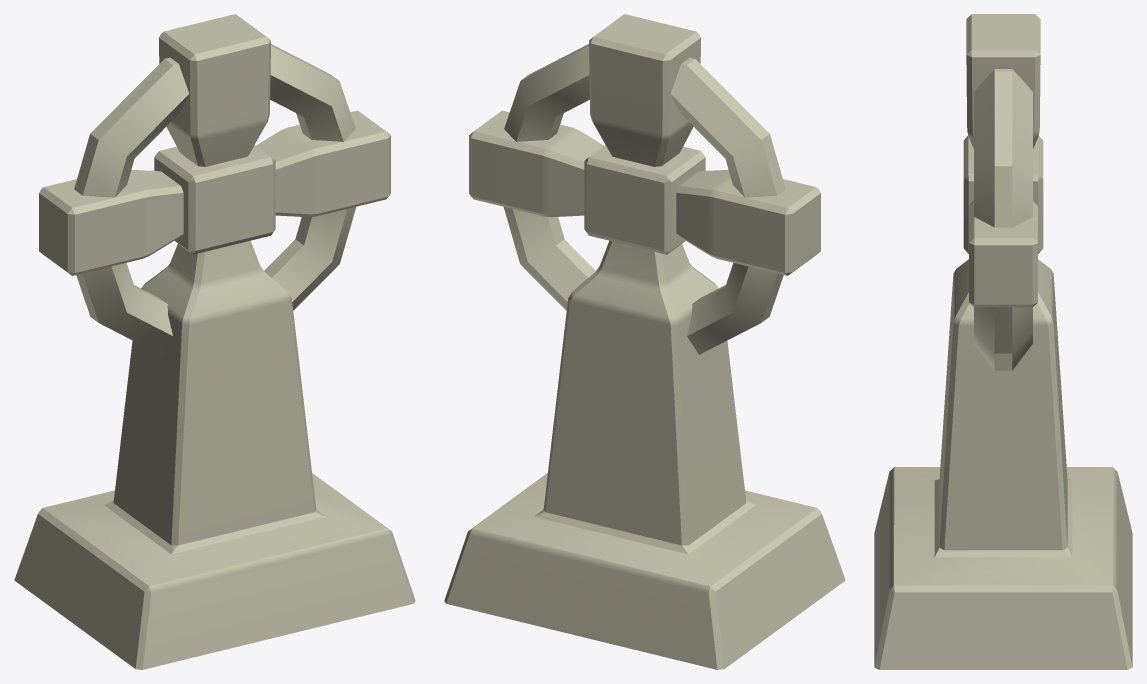
Rendered from Lapida2.fbx.
The picture shows the model from 3 angles, left to right: view 1: azimuth 30°, elevation 25°; view 2: azimuth 150°, elevation 25°; view 3: azimuth 270°, elevation 25°; orthographic projection. The views are drawn at different scales.
Visible parts, largest first — view 1: Lapida2; view 2: Lapida2; view 3: Lapida2.
Part boxes in pixels (left/top/right/bottom): Lapida2: left=14, top=14, right=415, bottom=669; Lapida2: left=444, top=14, right=845, bottom=669; Lapida2: left=874, top=14, right=1132, bottom=669.
Bounding box in the file's own units: 74.93 × 123 × 50.71.
